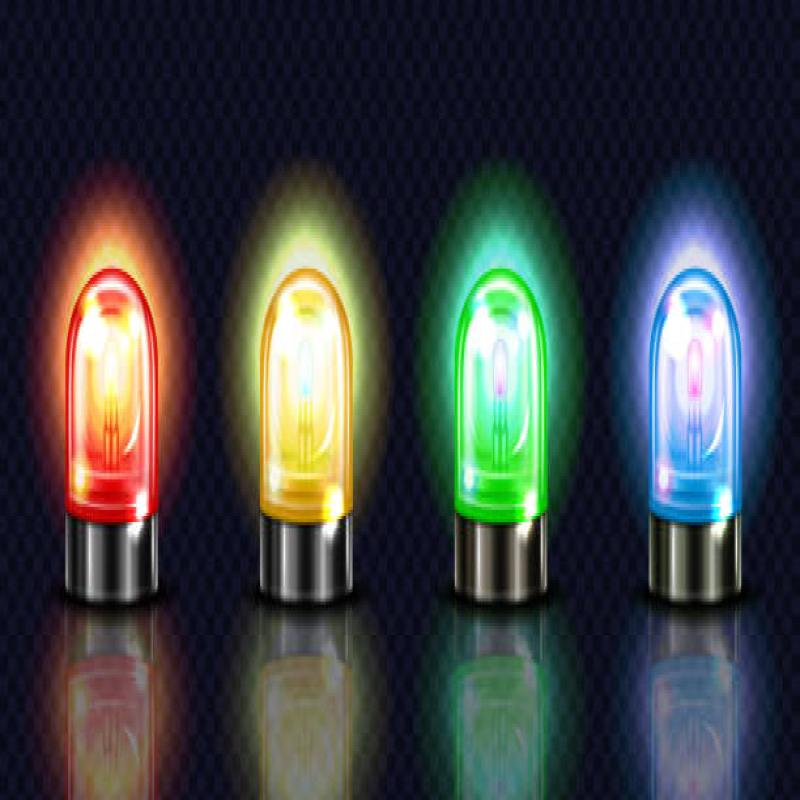AmbulanceSiren: (56, 254, 163, 642), (248, 276, 371, 592), (640, 255, 748, 614), (446, 262, 555, 578)
